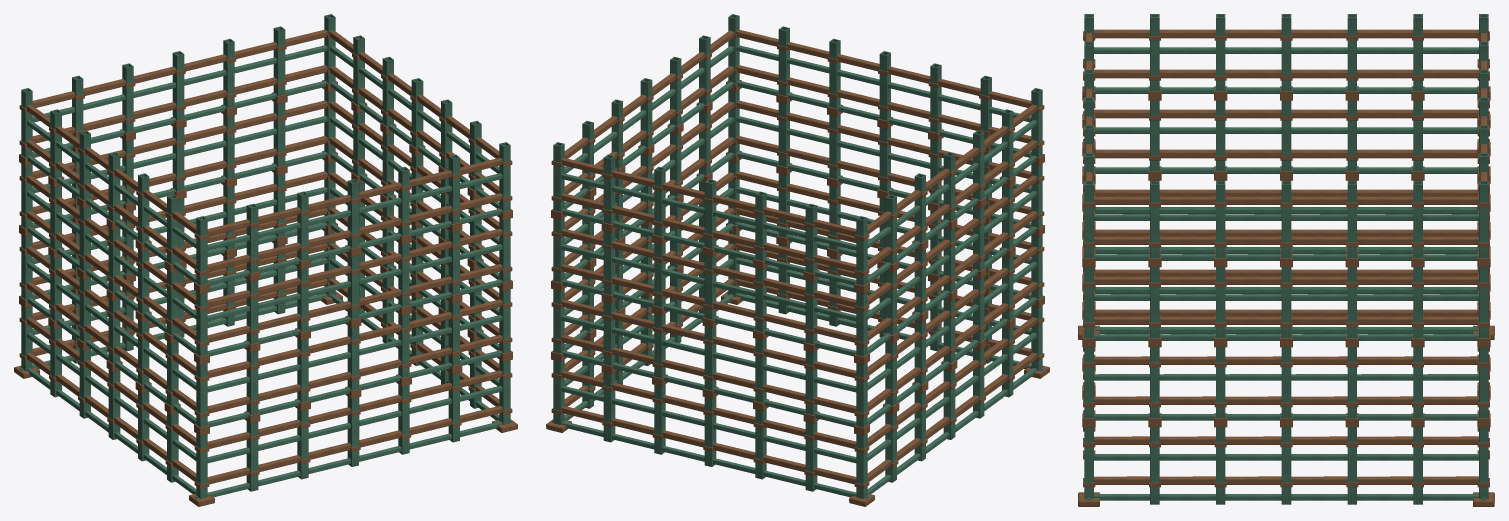
The picture shows the model from 3 angles, left to right: view 1: azimuth 30°, elevation 25°; view 2: azimuth 150°, elevation 25°; view 3: azimuth 270°, elevation 25°; orthographic projection. The views are drawn at different scales.
Parts seen in each view (by area): view 1: Tier 3 side 0 post 1, Tier 3 side 2 post 1, Tier 3 side 0 post 3, Tier 0 side 0 post 1, Tier 3 side 2 post 3, Tier 3 side 0 post 0, Tier 0 side 0 post 3, Tier 3 side 1 post 0, Tier 3 side 0 post 2, Tier 3 side 2 post 2, Tier 3 side 2 post 4, Tier 3 side 0 post 4 (+54 smaller); view 2: Tier 3 side 2 post 5, Tier 3 side 2 post 3, Tier 3 side 2 post 1, Tier 0 side 2 post 3, Tier 0 side 2 post 5, Tier 0 side 2 post 1, Tier 3 side 3 post 0, Tier 3 side 0 post 5, Tier 3 side 0 post 3, Tier 3 side 2 post 0, Tier 3 side 2 post 4, Tier 3 side 2 post 2 (+54 smaller); view 3: Tier 0 side 1 post 3, Tier 3 side 1 post 3, Tier 3 side 3 post 3, Tier 1 side 1 post 3, Tier 2 side 1 post 3, Tier 0 side 1 post 1, Tier 0 side 1 post 2, Tier 0 side 1 post 4, Tier 0 side 1 post 5, Tier 3 side 1 post 0, Tier 3 side 1 post 1, Tier 3 side 1 post 5 (+98 smaller).
Part boxes in pixels (left/top/right/bottom): Tier 3 side 0 post 1: left=246, top=203, right=258, bottom=273; Tier 3 side 2 post 1: left=273, top=26, right=285, bottom=95; Tier 3 side 0 post 3: left=347, top=179, right=359, bottom=248; Tier 0 side 0 post 1: left=246, top=421, right=258, bottom=491; Tier 3 side 2 post 3: left=172, top=51, right=184, bottom=120; Tier 3 side 0 post 0: left=196, top=216, right=207, bottom=285; Tier 0 side 0 post 3: left=347, top=396, right=359, bottom=466; Tier 3 side 1 post 0: left=499, top=142, right=510, bottom=211; Tier 3 side 0 post 2: left=297, top=191, right=308, bottom=260; Tier 3 side 2 post 2: left=223, top=38, right=234, bottom=108; Tier 3 side 2 post 4: left=122, top=63, right=133, bottom=132; Tier 3 side 0 post 4: left=398, top=166, right=409, bottom=236; Tier 3 side 2 post 5: left=805, top=203, right=817, bottom=273; Tier 3 side 2 post 3: left=704, top=179, right=716, bottom=248; Tier 3 side 2 post 1: left=603, top=154, right=615, bottom=223; Tier 0 side 2 post 3: left=704, top=396, right=716, bottom=466; Tier 0 side 2 post 5: left=805, top=421, right=817, bottom=491; Tier 0 side 2 post 1: left=603, top=372, right=615, bottom=442; Tier 3 side 3 post 0: left=856, top=216, right=867, bottom=285; Tier 3 side 0 post 5: left=778, top=26, right=789, bottom=95; Tier 3 side 0 post 3: left=879, top=51, right=890, bottom=120; Tier 3 side 2 post 0: left=553, top=142, right=564, bottom=211; Tier 3 side 2 post 4: left=755, top=191, right=766, bottom=260; Tier 3 side 2 post 2: left=654, top=166, right=665, bottom=236; Tier 0 side 1 post 3: left=1281, top=427, right=1291, bottom=504; Tier 3 side 1 post 3: left=1281, top=181, right=1291, bottom=258; Tier 3 side 3 post 3: left=1281, top=14, right=1291, bottom=91; Tier 1 side 1 post 3: left=1281, top=347, right=1291, bottom=418; Tier 2 side 1 post 3: left=1281, top=267, right=1291, bottom=338; Tier 0 side 1 post 1: left=1150, top=427, right=1159, bottom=504; Tier 0 side 1 post 2: left=1216, top=427, right=1225, bottom=504; Tier 0 side 1 post 4: left=1347, top=427, right=1356, bottom=504; Tier 0 side 1 post 5: left=1413, top=427, right=1422, bottom=504; Tier 3 side 1 post 0: left=1084, top=181, right=1093, bottom=258; Tier 3 side 1 post 1: left=1150, top=181, right=1159, bottom=258; Tier 3 side 1 post 5: left=1413, top=181, right=1422, bottom=258.
Bounding box in the file's own units: 2.85 × 2.41 × 2.85.
Materials: 2 (2 with a texture image).
